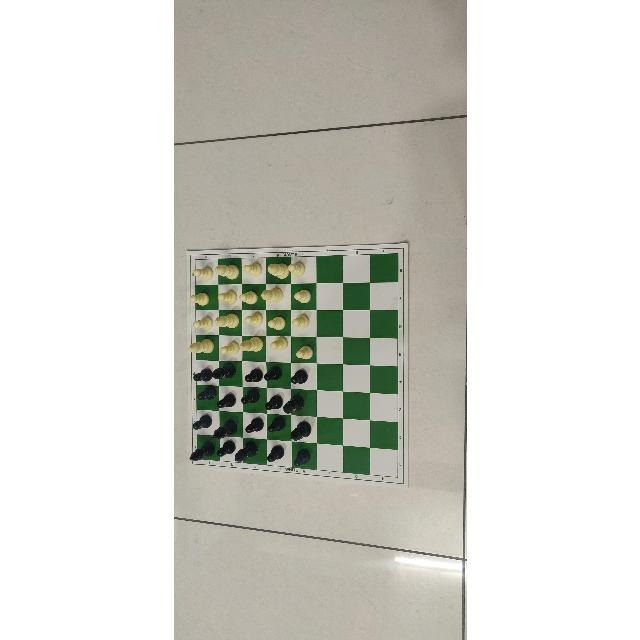black-bishop: (233, 440, 260, 464), (210, 417, 236, 438), (187, 441, 214, 461), (211, 361, 235, 382), (289, 419, 309, 442), (282, 396, 305, 416)
black-pawn: (291, 447, 313, 468), (290, 367, 310, 389), (244, 416, 264, 437), (265, 416, 286, 436), (264, 443, 285, 463), (216, 439, 234, 461), (216, 392, 236, 411), (242, 366, 261, 386), (196, 385, 214, 404), (191, 366, 211, 383), (191, 414, 211, 431), (240, 388, 258, 406), (263, 366, 281, 383), (264, 395, 282, 411)
white-bishop: (212, 260, 238, 282), (263, 260, 289, 282), (187, 339, 216, 357), (259, 287, 285, 307), (213, 312, 239, 332), (238, 336, 264, 356)
white-pawn: (292, 341, 315, 363), (269, 334, 291, 356), (290, 313, 316, 331), (266, 315, 288, 335), (191, 315, 215, 333), (188, 289, 210, 308), (241, 261, 265, 278), (190, 265, 214, 282), (287, 260, 305, 282), (214, 288, 235, 306), (291, 288, 311, 306), (243, 311, 263, 329), (238, 291, 260, 307), (219, 340, 239, 357)
